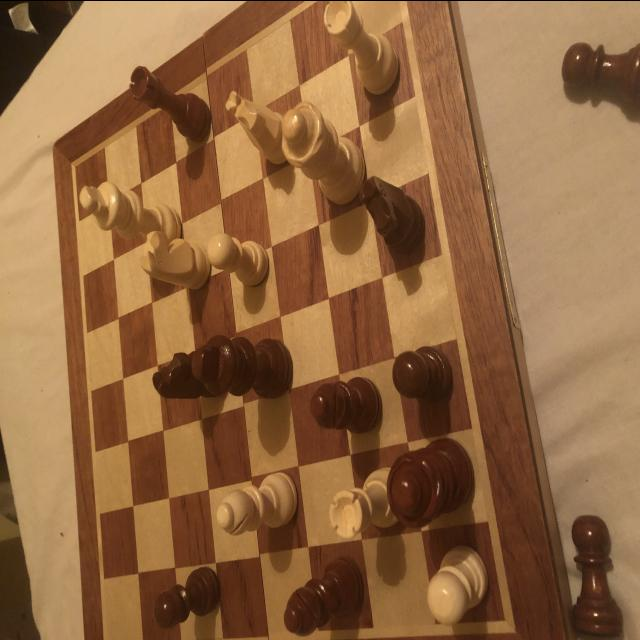black_bishop: (282, 555, 362, 637), (310, 374, 380, 434)
black_king: (194, 336, 292, 396)
black_knight: (363, 177, 423, 250), (153, 349, 205, 400)
black_pawn: (569, 507, 624, 640), (154, 564, 220, 626), (562, 41, 640, 87), (392, 344, 450, 399)
black_queen: (386, 436, 474, 524)
black_rook: (128, 63, 210, 138)
white_bishop: (217, 469, 297, 534)
white_king: (80, 178, 180, 242)
white_knight: (223, 86, 287, 166), (140, 228, 208, 292)
white_pawn: (429, 544, 489, 622), (206, 230, 270, 284)
white_queen: (280, 102, 362, 200)
white_rook: (324, 0, 400, 91), (328, 468, 392, 534)
